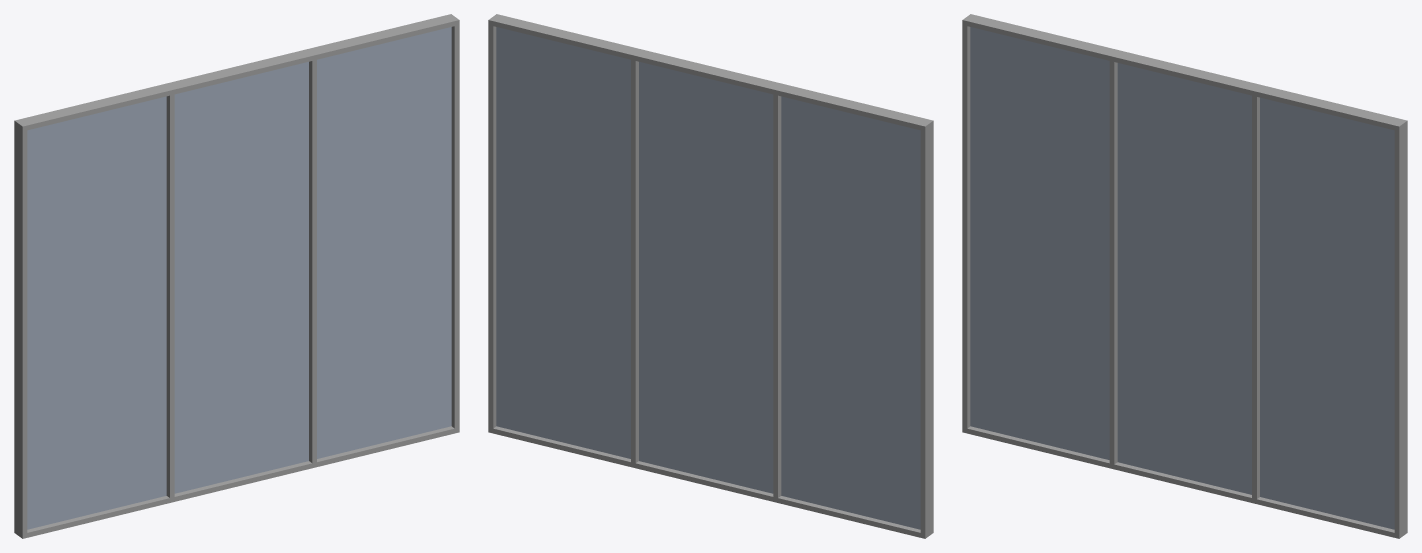
Rendered from Neo_Window_04.fbx.
3 renders of one model, left to right at view 1: azimuth 30°, elevation 25°; view 2: azimuth 150°, elevation 25°; view 3: azimuth 330°, elevation 25°, orthographic.
Parts seen in each view (by area): view 1: Neo_Window_04_Glass_01, Neo_Window_04; view 2: Neo_Window_04_Glass_01, Neo_Window_04; view 3: Neo_Window_04_Glass_01, Neo_Window_04.
Part boxes in pixels (<box>): Neo_Window_04_Glass_01: <box>27,27,451,529</box>; Neo_Window_04: <box>14,14,459,538</box>; Neo_Window_04_Glass_01: <box>496,27,920,529</box>; Neo_Window_04: <box>488,14,933,538</box>; Neo_Window_04_Glass_01: <box>970,27,1394,529</box>; Neo_Window_04: <box>962,14,1407,538</box>.
Bounding box in the file's own units: 288 × 259 × 9.38.
